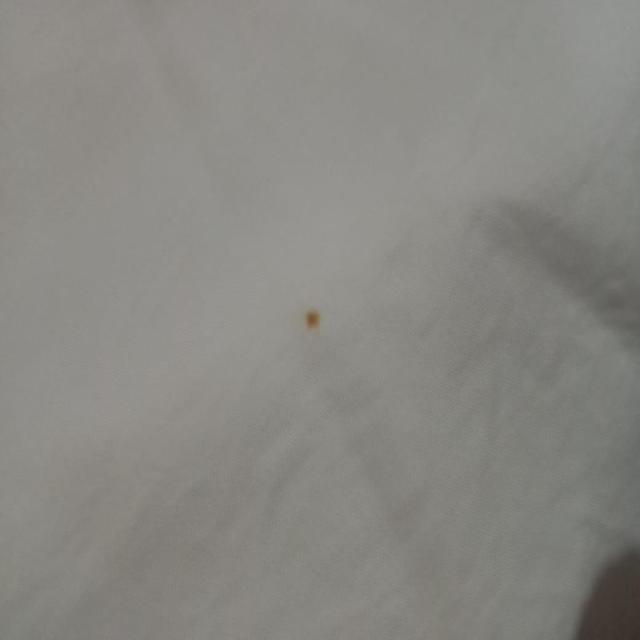stain: (295, 297, 328, 343)
